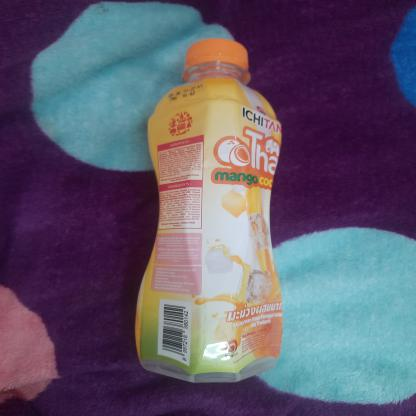bottle: (130, 34, 287, 385)
